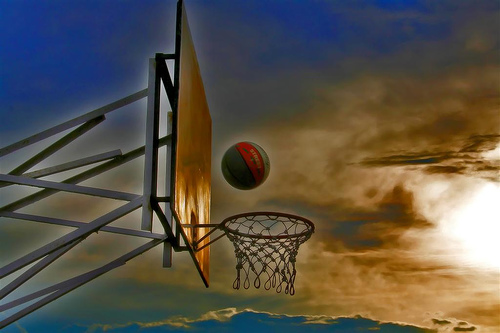basketball: (220, 141, 269, 190)
